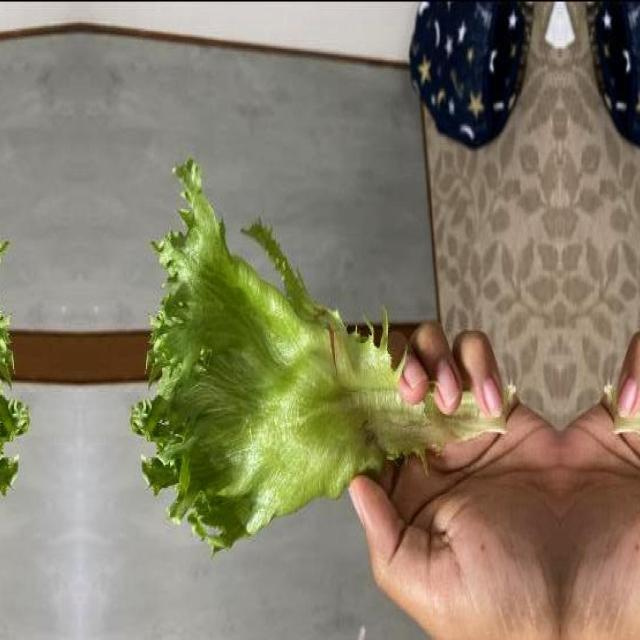healthy: (131, 157, 521, 555), (599, 157, 640, 555), (0, 157, 29, 555)
